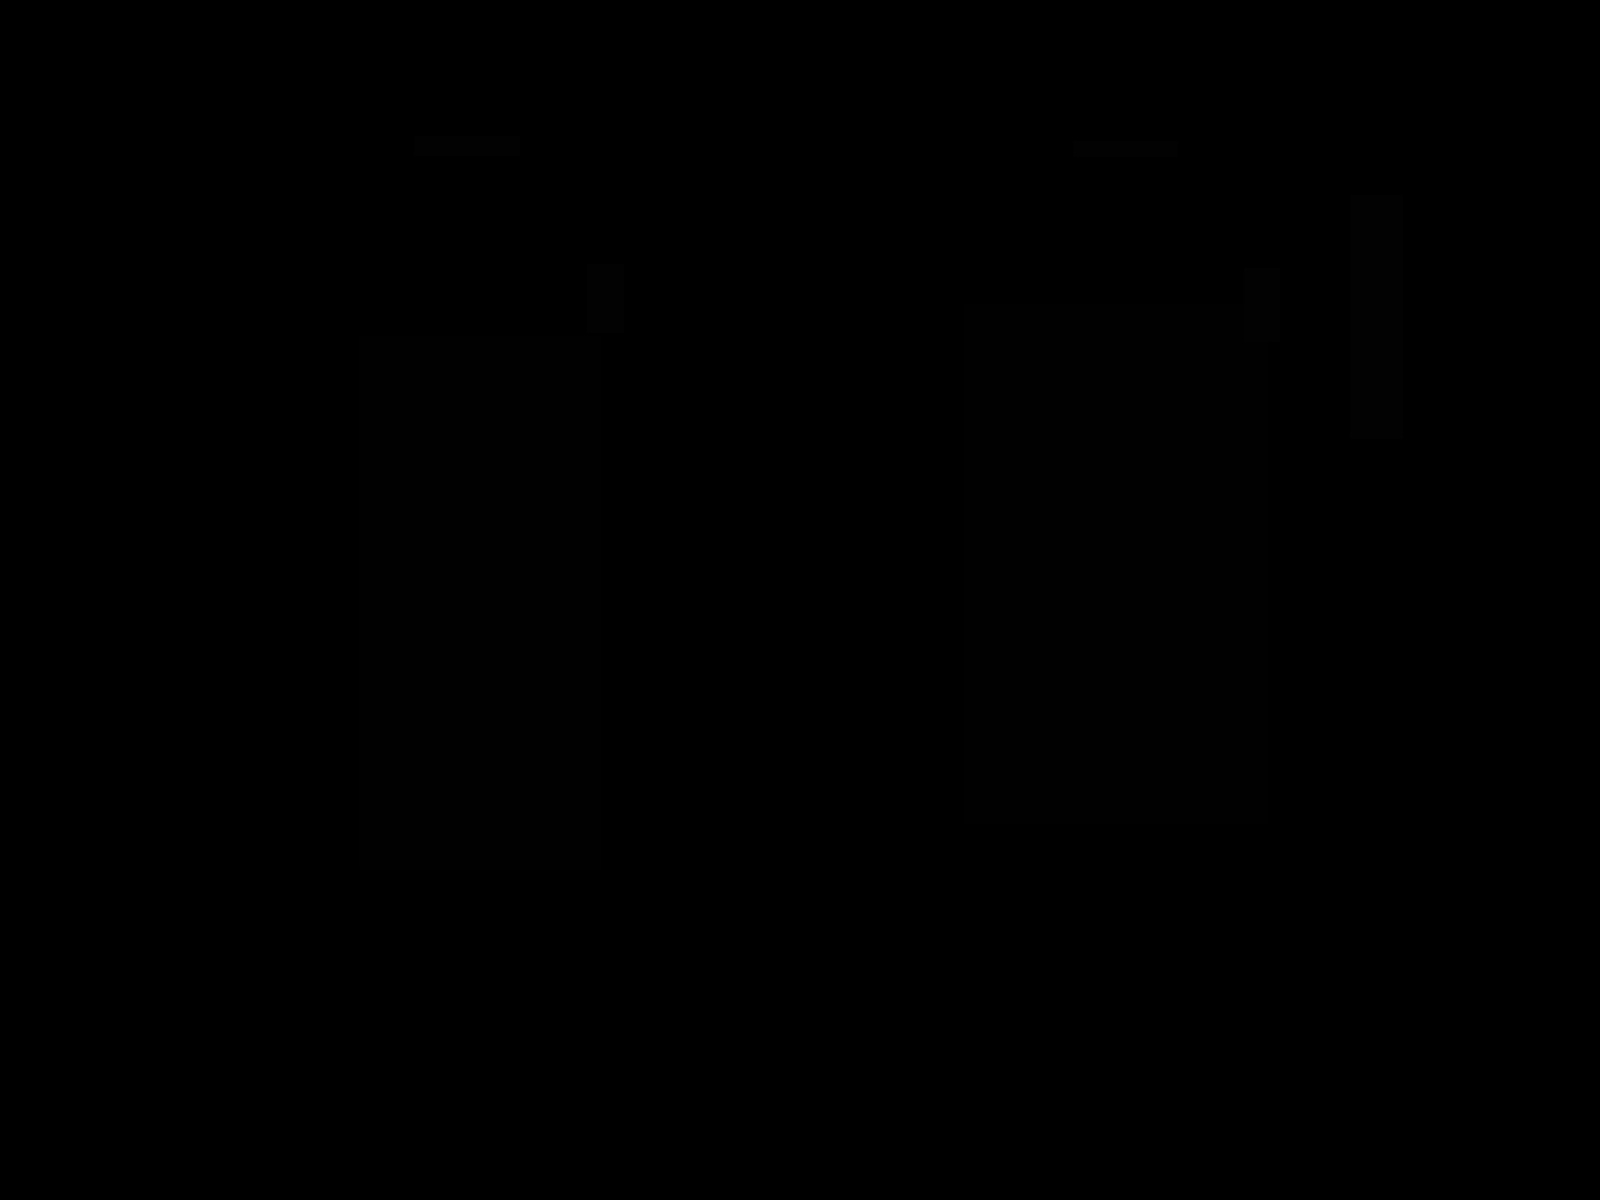1_overall: (69, 61, 1511, 1006)
2_handwritten: (1351, 195, 1403, 439), (1243, 268, 1280, 342)
3_typography: (587, 263, 624, 333), (414, 136, 520, 156), (1073, 141, 1178, 158)
4_illustration: (964, 304, 1267, 824), (359, 337, 601, 870)
